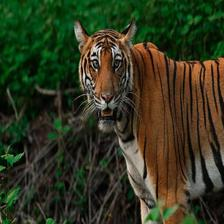tiger: (69, 17, 224, 224)
